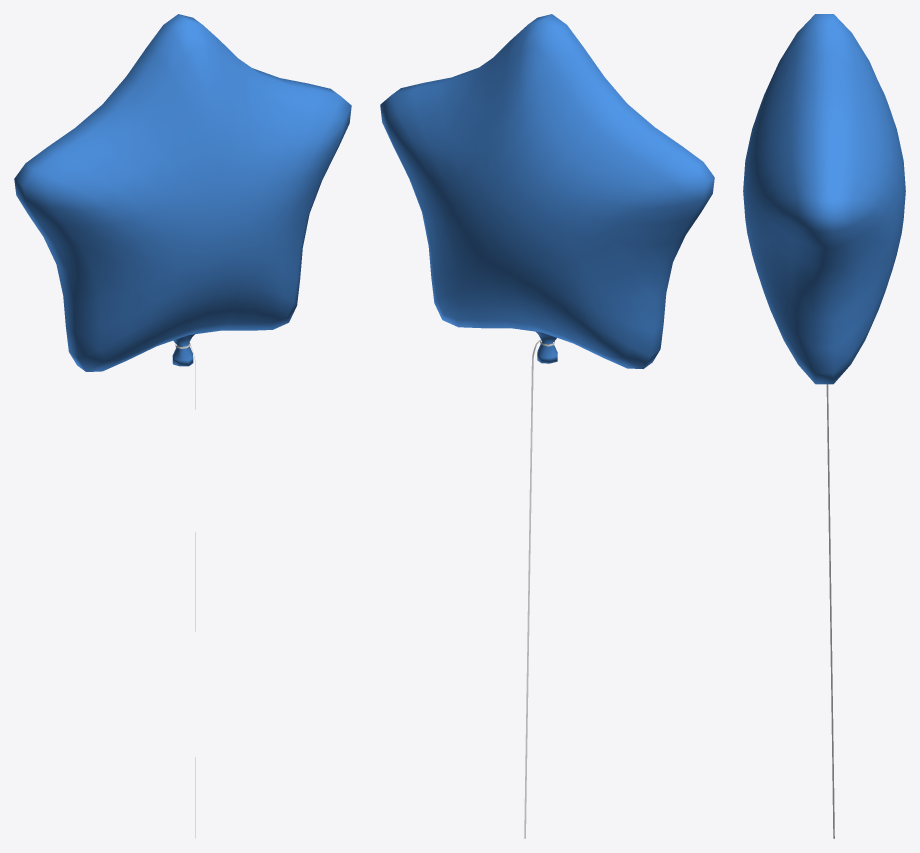
File: StarBalloon.fbx
3 renders of one model, left to right at view 1: azimuth 30°, elevation 25°; view 2: azimuth 150°, elevation 25°; view 3: azimuth 270°, elevation 25°, orthographic.
Visible parts, largest first — view 1: Object006; view 2: Object006; view 3: Object006.
Boxes of the visible parts, bbox=[...] form: Object006: bbox=[14, 14, 351, 838]; Object006: bbox=[380, 14, 714, 838]; Object006: bbox=[743, 14, 905, 838].
Bounding box in the file's own units: 101 × 245 × 44.25.
